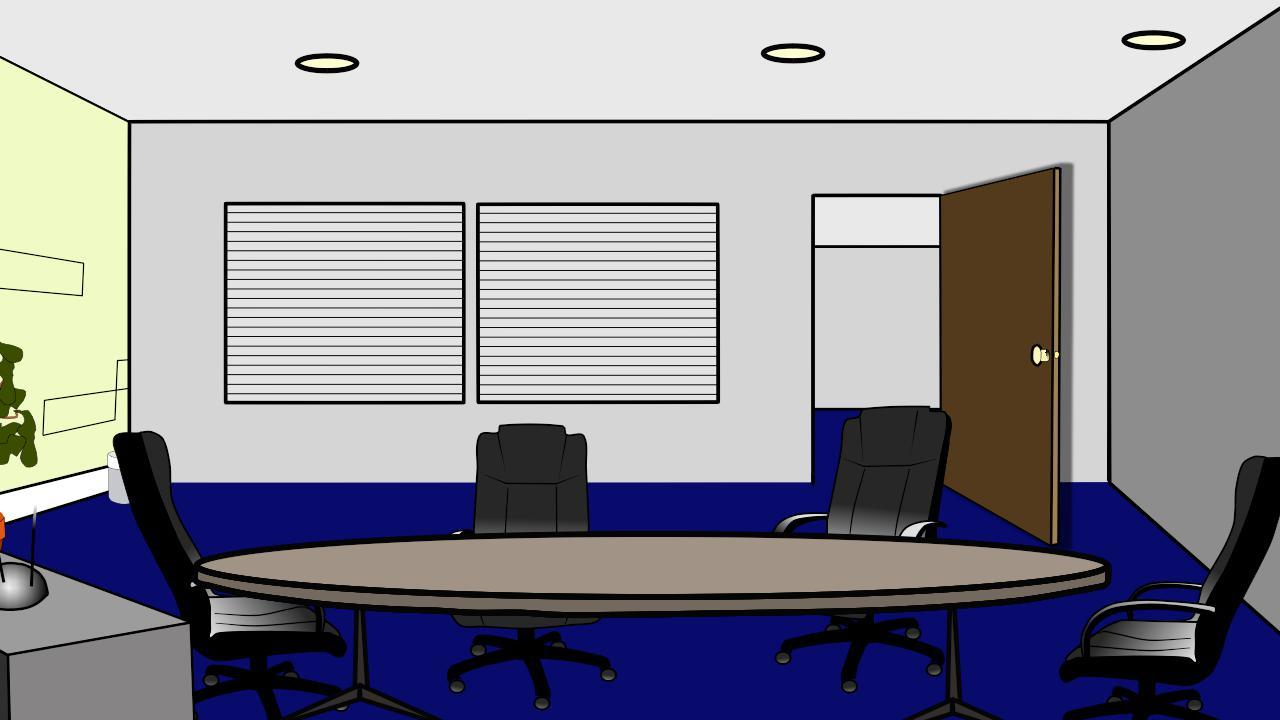chair: (92, 415, 355, 719), (751, 384, 965, 699), (1056, 418, 1271, 720), (436, 408, 640, 712)
diningtable: (193, 522, 1137, 711)
